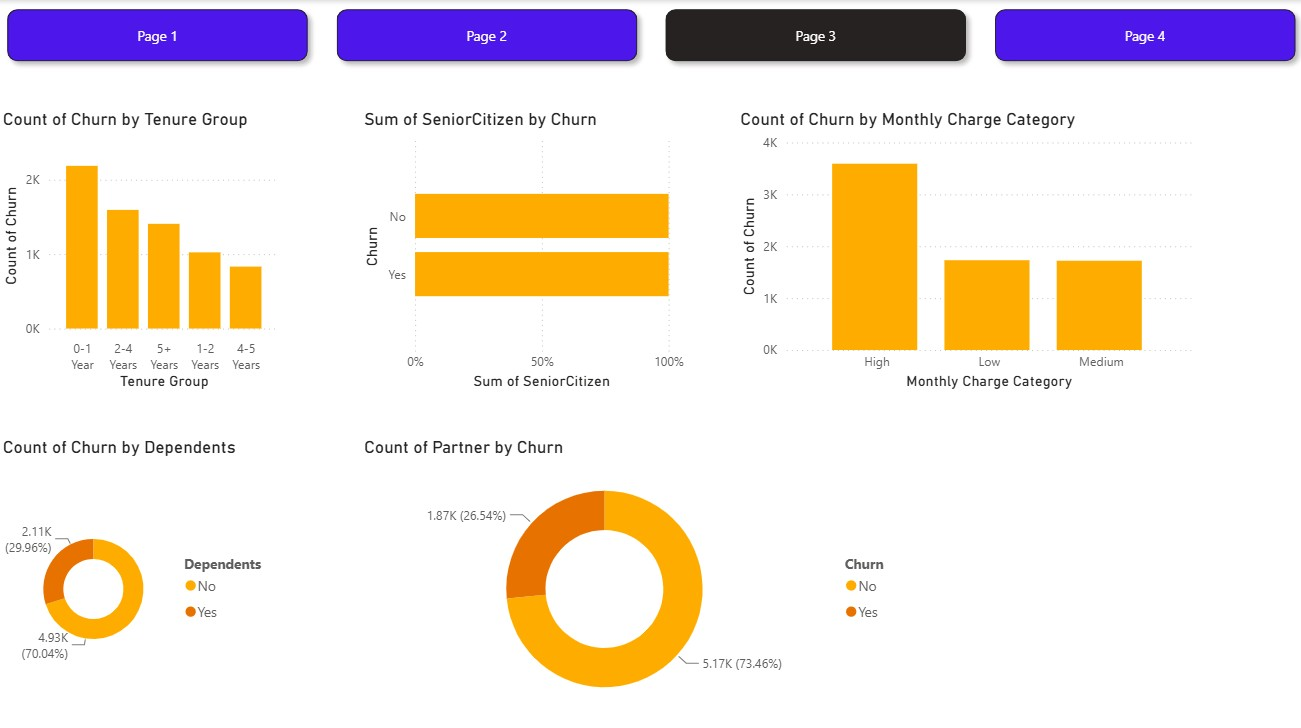

This screenshot's page, from the dashboard's own definition file:
{"tool":"powerbi","page":{"name":"Page 3","canvas":[1280,720],"ordinal":2},"visuals":[{"type":"columnChart","fields":{"Category":["Customer.Tenure Group"],"Y":["CountNonNull(Customer.Churn)"]},"box":[0,106.4,280,280],"z":0},{"type":"donutChart","fields":{"Category":["Customer.Dependents"],"Y":["CountNonNull(Customer.Churn)"]},"box":[0,426.8,280,280],"z":1000},{"type":"hundredPercentStackedBarChart","fields":{"Y":["Sum(Customer.SeniorCitizen)"],"Category":["Customer.Churn"]},"box":[353.4,106.4,322.8,280],"z":2000},{"type":"donutChart","fields":{"Y":["CountNonNull(Customer.Partner)"],"Category":["Customer.Churn"]},"box":[353.4,426.8,538,280],"z":3000},{"type":"columnChart","fields":{"Category":["Customer.Monthly Charge Category"],"Y":["CountNonNull(Customer.Churn)"]},"box":[721.5,106.4,451.2,280],"z":4000},{"type":"pageNavigator","box":[0,0,1280.3,69.7],"z":5000}]}

Visuals, with their boxes in screenshot pixels (x1, y1, x2, y2), scaled from the page's 1280x720 canvas onto the 1301x728 screenshot:
columnChart - Customer.Tenure Group x CountNonNull(Customer.Churn): Rect(0, 108, 285, 391)
donutChart - Customer.Dependents x CountNonNull(Customer.Churn): Rect(0, 432, 285, 715)
hundredPercentStackedBarChart - Sum(Customer.SeniorCitizen) x Customer.Churn: Rect(359, 108, 687, 391)
donutChart - CountNonNull(Customer.Partner) x Customer.Churn: Rect(359, 432, 906, 715)
columnChart - Customer.Monthly Charge Category x CountNonNull(Customer.Churn): Rect(733, 108, 1192, 391)
pageNavigator: Rect(0, 0, 1300, 70)
